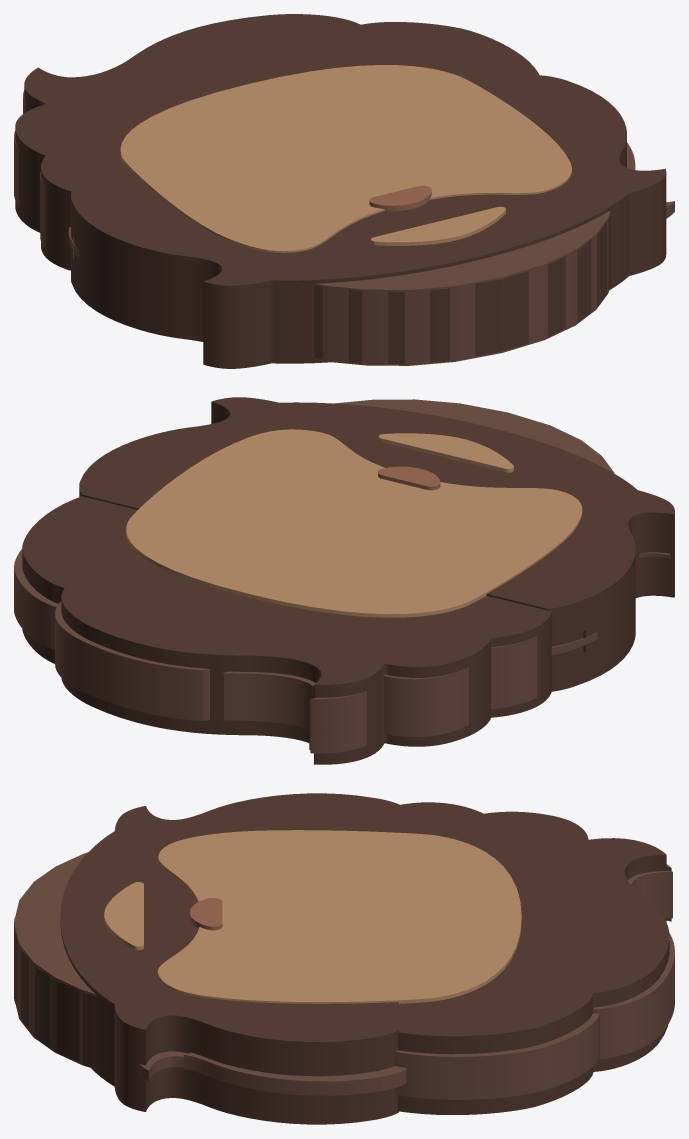
Rendered from emoji_u1f9d4_1f3fd.glb.
The picture shows the model from 3 angles, top to bottom: view 1: azimuth 30°, elevation 25°; view 2: azimuth 150°, elevation 25°; view 3: azimuth 270°, elevation 25°; orthographic projection.
Parts seen in each view (by area): view 1: emoji_u1f9d4_1f3fd; view 2: emoji_u1f9d4_1f3fd; view 3: emoji_u1f9d4_1f3fd.
Part boxes in pixels (x1=…): emoji_u1f9d4_1f3fd: x1=14, y1=14, x2=674, y2=368; emoji_u1f9d4_1f3fd: x1=14, y1=397, x2=674, y2=764; emoji_u1f9d4_1f3fd: x1=14, y1=793, x2=674, y2=1124.
Bounding box in the file's own units: 0.0304 × 0.0052 × 0.0334.
